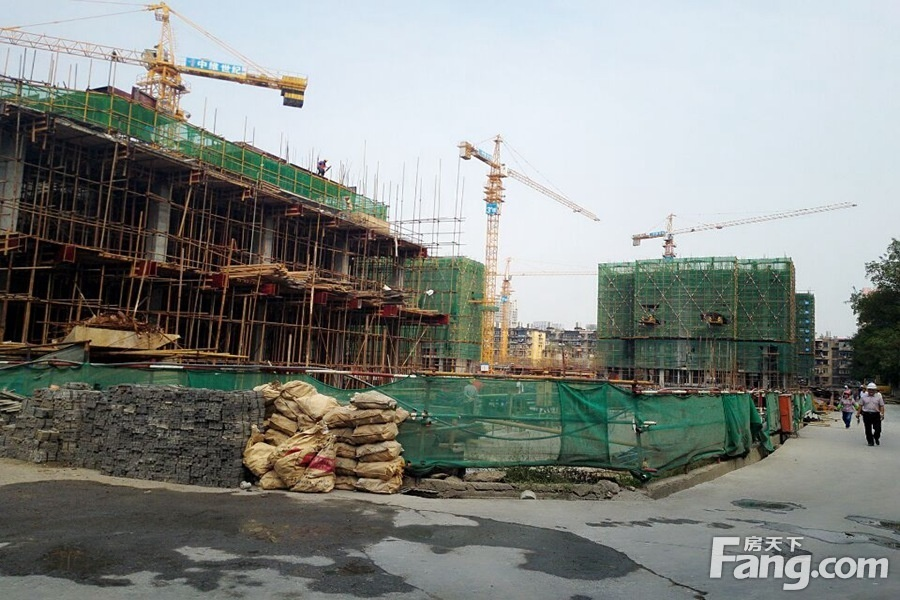white: (865, 381, 878, 397)
